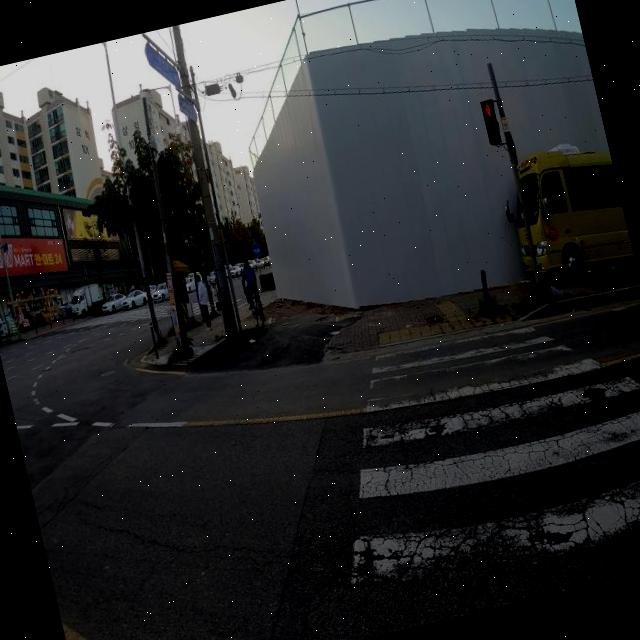crosswalk: (350, 323, 640, 587), (56, 297, 249, 330)
